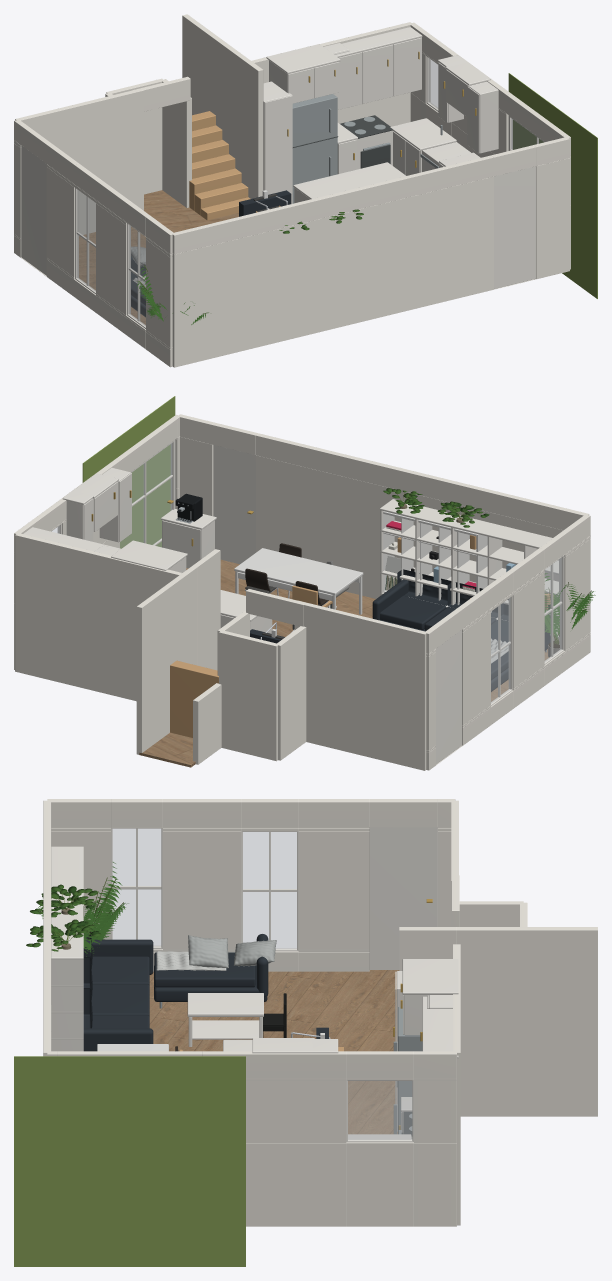
3 renders of one model, top to bottom at view 1: azimuth 30°, elevation 25°; view 2: azimuth 150°, elevation 25°; view 3: azimuth 270°, elevation 25°, orthographic. The views are drawn at different scales.
Parts seen in each view (by area): view 1: wall_8_segment.006, wall_11_segment, wall_8_segment.007, inferred_outdoor_brightness, wall_3_segment, door_panel.002, wall_8_segment.001, home-downstairs__refrigerator_24__body, wall_2_segment, door_panel, wall_0_segment.015, wall_5_segment (+52 smaller); view 2: wall_1_segment, wall_11_segment, wall_8_segment.006, wall_3_segment, wall_8_segment.007, wall_4_segment, inferred_outdoor_brightness, door_panel.002, wall_9_segment, wall_0_segment.015, measured_floor_polygon, observed_glazed_patio_panel (+45 smaller); view 3: inferred_outdoor_brightness, wall_3_segment, measured_floor_polygon, wall_0_segment.015, wall_0_segment.027, wall_7_segment.007, door_panel, wall_7_segment.008, wall_7_segment.004, glass.001, glass, glass.002 (+39 smaller).
Part boxes in pixels (box(x1,y1,x2,y2)): wall_8_segment.006: box(172, 176, 493, 367); wall_11_segment: box(15, 88, 143, 234); wall_8_segment.007: box(172, 155, 493, 254); inferred_outdoor_brightness: box(508, 73, 597, 298); wall_3_segment: box(182, 14, 240, 168); door_panel.002: box(494, 166, 535, 288); wall_8_segment.001: box(536, 158, 569, 278); home-downstairs__refrigerator_24__body: box(292, 94, 337, 203); wall_2_segment: box(236, 54, 263, 198); door_panel: box(21, 145, 46, 275); wall_0_segment.015: box(96, 203, 130, 315); wall_5_segment: box(161, 79, 191, 207); wall_1_segment: box(15, 533, 181, 701); wall_11_segment: box(294, 600, 426, 770); wall_8_segment.006: box(256, 455, 562, 640); wall_3_segment: box(136, 565, 197, 754); wall_8_segment.007: box(256, 433, 589, 530); wall_4_segment: box(219, 630, 278, 761); inferred_outdoor_brightness: box(82, 396, 175, 548); door_panel.002: box(213, 445, 255, 564); wall_9_segment: box(276, 626, 306, 760); wall_0_segment.015: box(508, 572, 544, 688); measured_floor_polygon: box(139, 559, 548, 767); observed_glazed_patio_panel: box(120, 443, 172, 548); inferred_outdoor_brightness: box(14, 1056, 245, 1266); wall_3_segment: box(457, 927, 597, 1116); measured_floor_polygon: box(149, 970, 399, 1134); wall_0_segment.015: box(163, 831, 241, 949); wall_0_segment.027: box(298, 831, 369, 949); wall_7_segment.007: box(246, 1143, 346, 1226); door_panel: box(369, 827, 437, 969); wall_7_segment.008: box(246, 1080, 346, 1142); wall_7_segment.004: box(346, 1142, 413, 1226); glass.001: box(243, 832, 296, 948); glass: box(113, 829, 160, 946); glass.002: box(348, 1081, 411, 1139).
Size of the model in its own units: 8.43 by 3.11 by 7.55.
Materials: 43 (1 with a texture image).
